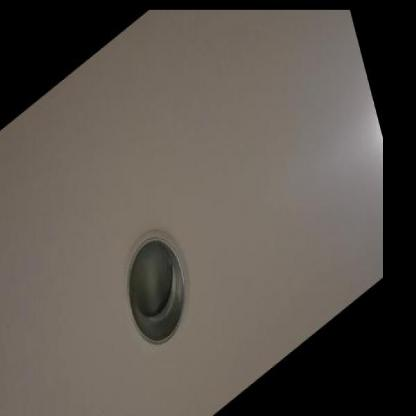light_off: (94, 174, 211, 391)
